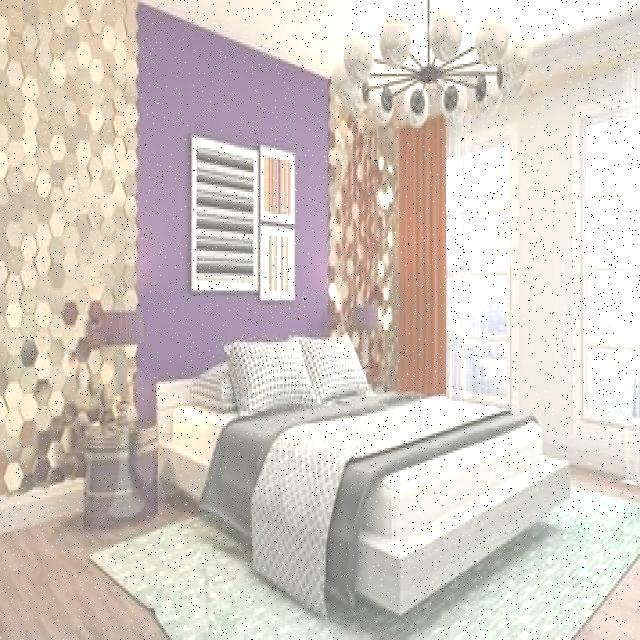bed: (168, 320, 568, 566)
